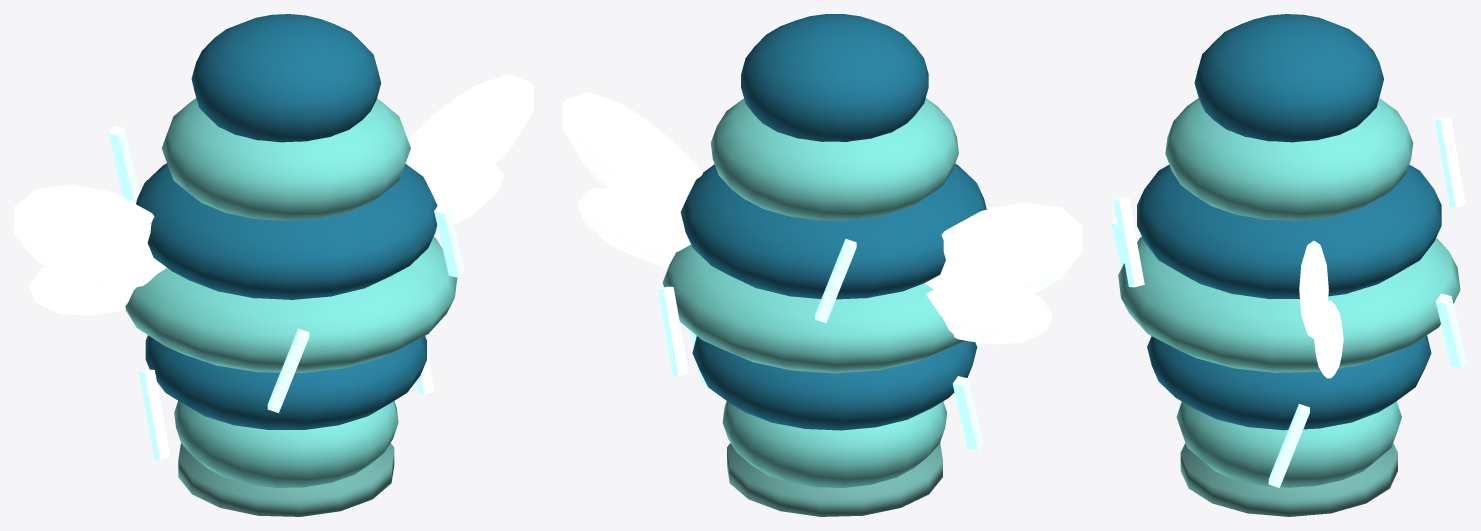
Rendered from egg_deepsea_06.glb.
3 renders of one model, left to right at view 1: azimuth 30°, elevation 25°; view 2: azimuth 150°, elevation 25°; view 3: azimuth 270°, elevation 25°, orthographic.
Visible parts, largest first — view 1: ball; view 2: ball; view 3: ball.
Boxes of the visible parts, x1=… form: ball: x1=14, y1=14, x2=533, y2=516; ball: x1=562, y1=14, x2=1082, y2=516; ball: x1=1111, y1=14, x2=1466, y2=516.
Size of the model in its own units: 1.2 by 0.99 by 0.7186.
